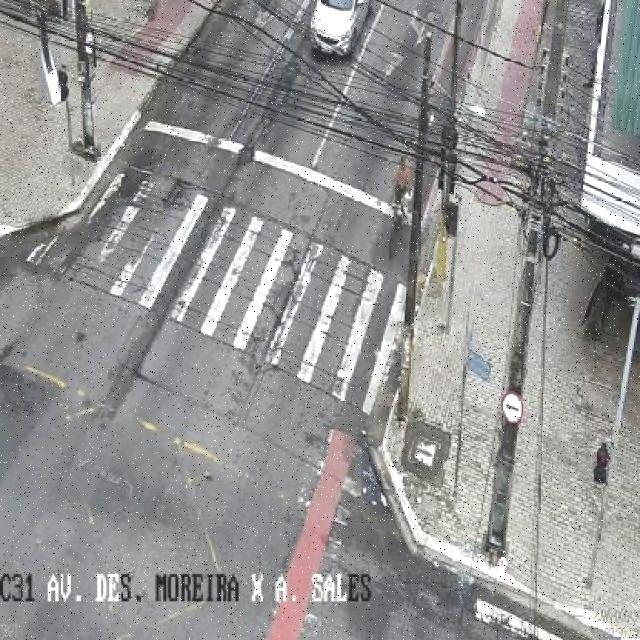Car: (308, 0, 372, 52)
